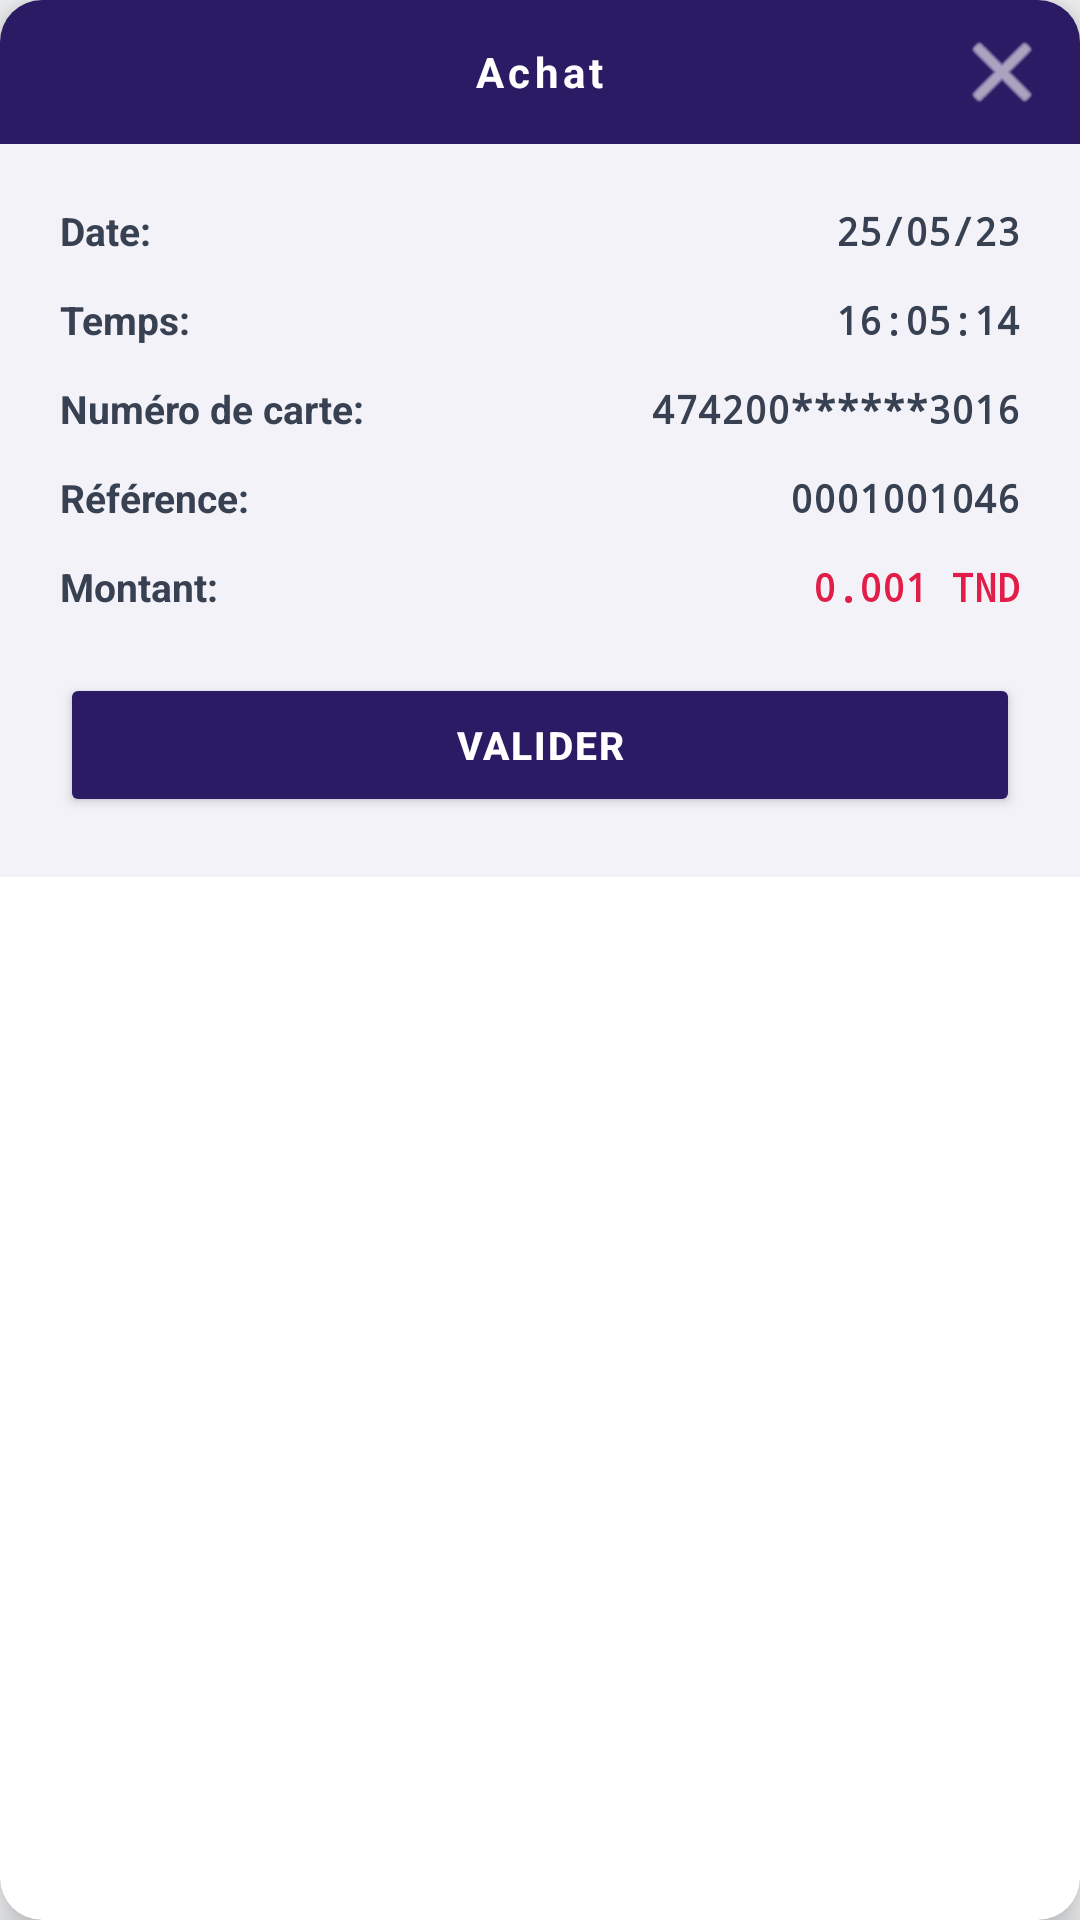

Where icons sit on this 1080px x 1920px app screen, as (x1, y1, x2, y2):
Fermer: (972, 42, 1032, 102)
